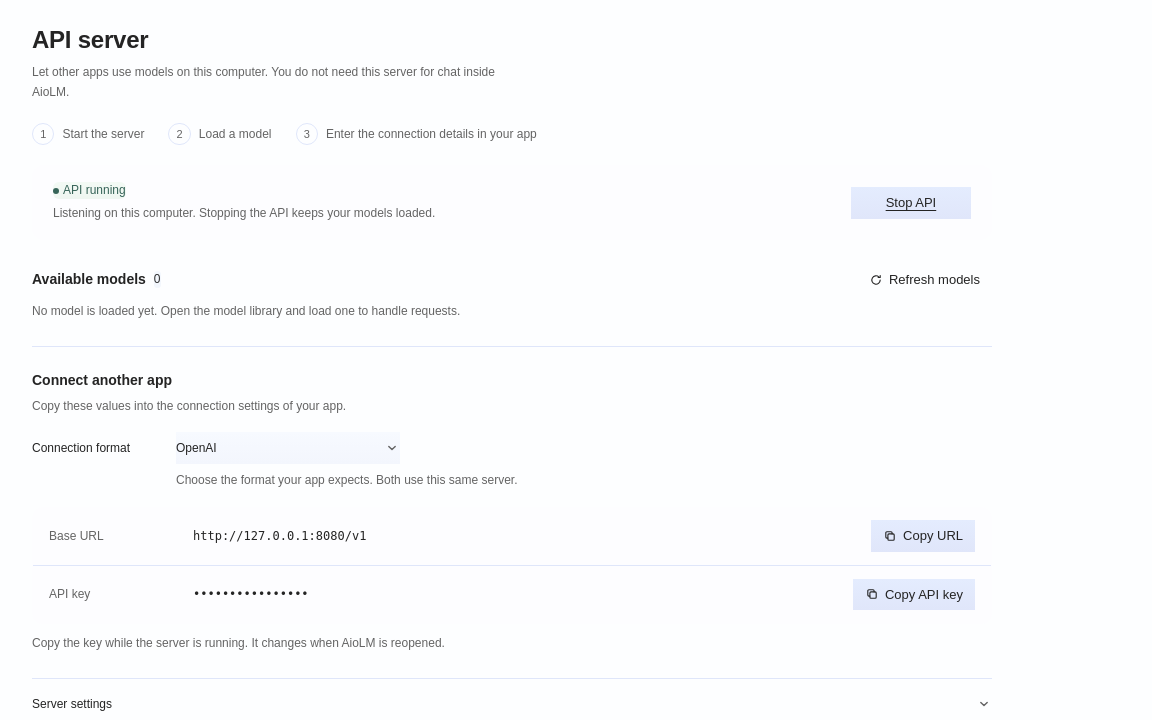
Test: API server lifecycle › re-reads the real status when a stop fails instead of guessing
Click the button named "Stop API" in the row of "API running".
click(911, 203)  # box [851, 187, 971, 219]
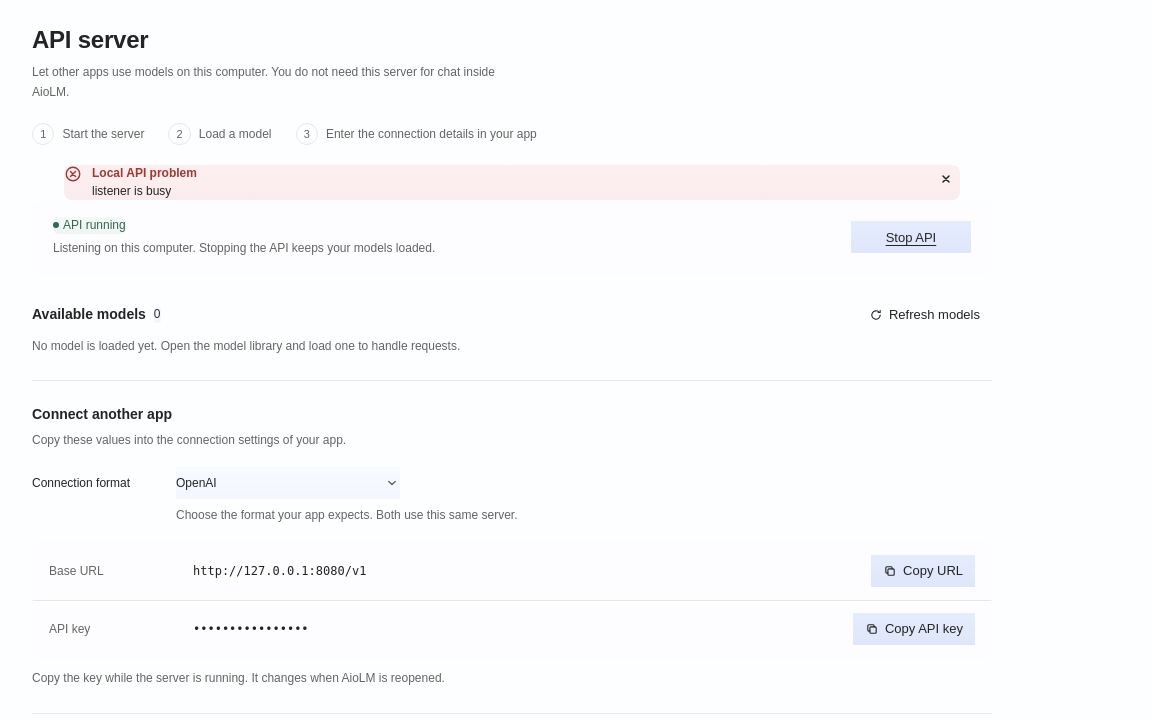
Expected: the button named "Stop API" in the row of "API running" is enabled, [851, 221, 971, 253]
Expected: the message "Local API problem listener is busy" is shown, [64, 165, 960, 200]
